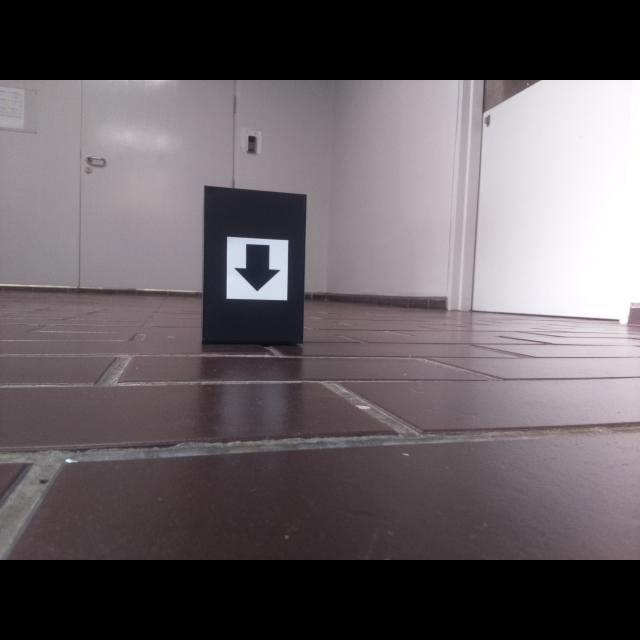DOWN: (232, 244, 282, 292)
